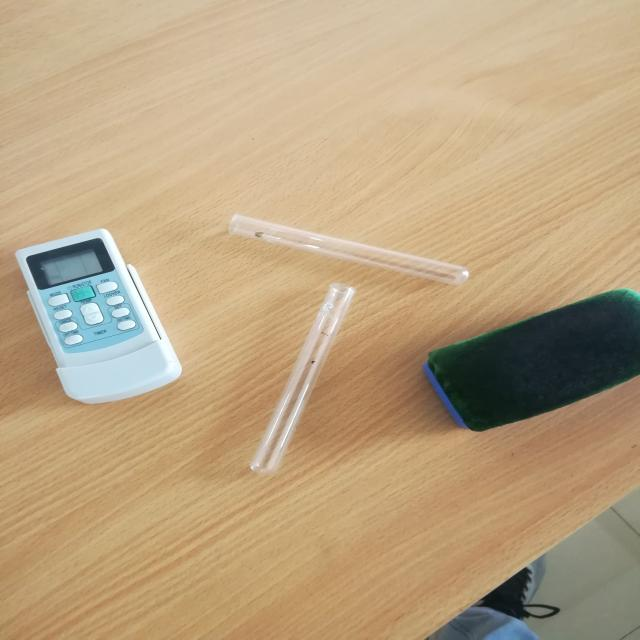Test_Tube: (228, 278, 372, 500), (212, 190, 488, 298)
